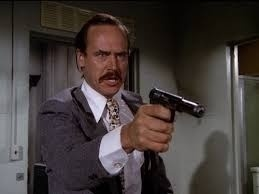pistol: (148, 85, 209, 122)
